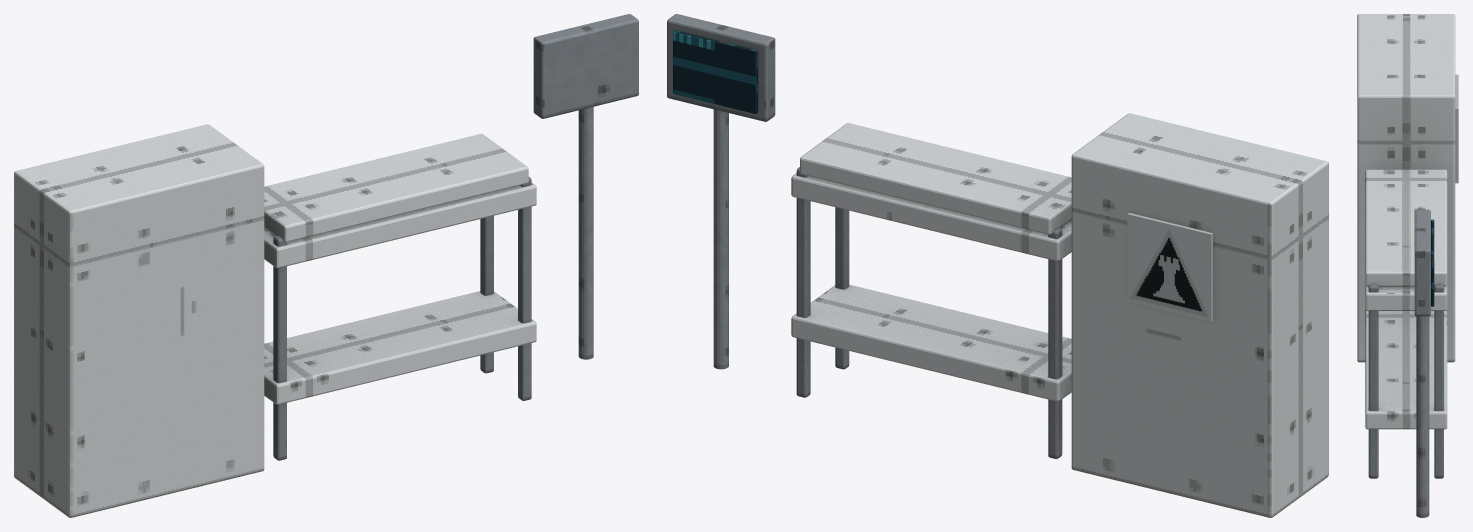
The model's file is base_first_aid.glb.
3 renders of one model, left to right at view 1: azimuth 30°, elevation 25°; view 2: azimuth 150°, elevation 25°; view 3: azimuth 270°, elevation 25°, orthographic. The views are drawn at different scales.
Visible parts, largest first — view 1: base_first_aid; view 2: base_first_aid; view 3: base_first_aid.
Part boxes in pixels (x1=…): base_first_aid: x1=14, y1=14, x2=638, y2=517; base_first_aid: x1=667, y1=14, x2=1328, y2=517; base_first_aid: x1=1357, y1=14, x2=1458, y2=517.
Size of the model in its own units: 3.7 by 1.93 by 0.62.
Materials: 4 (4 with a texture image).
